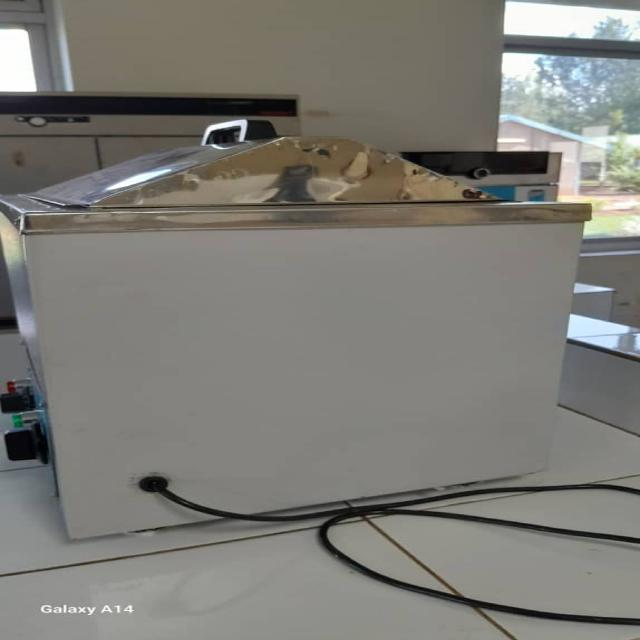Water-Oil Bath: (9, 121, 605, 527)
